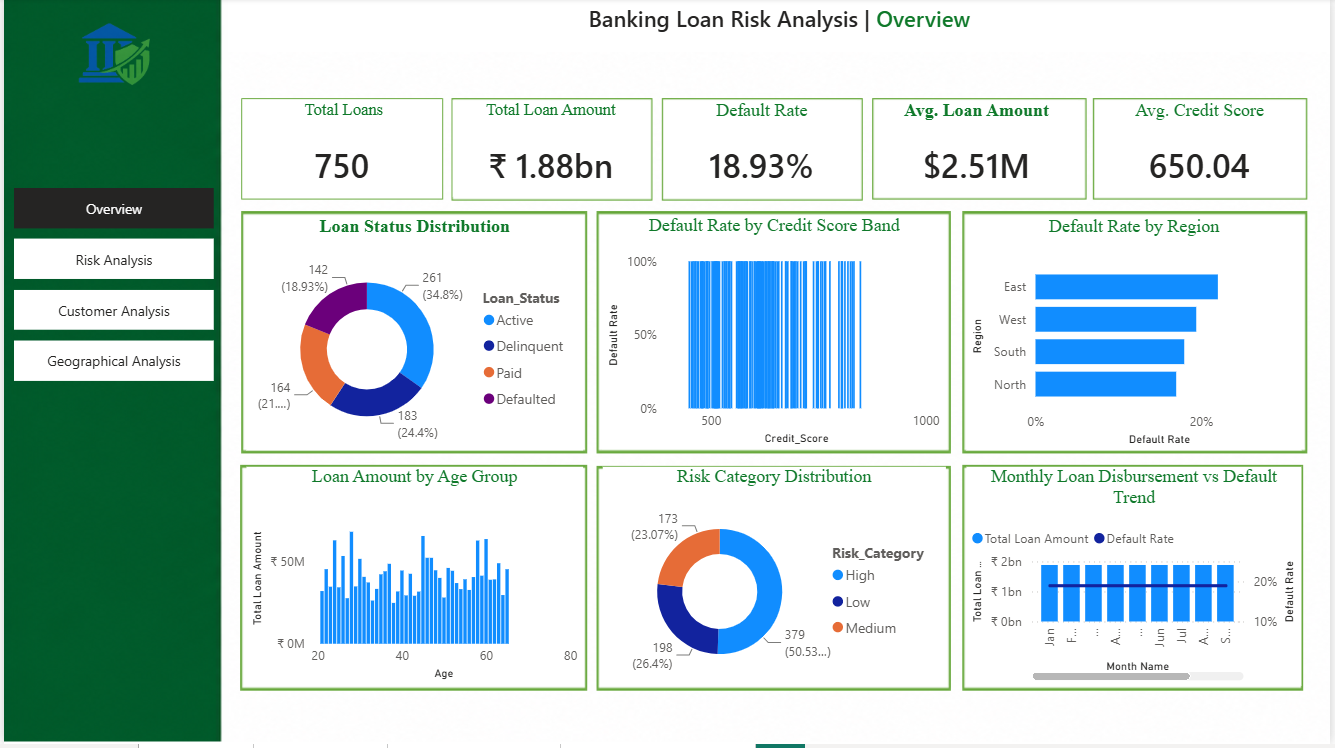

The dashboard page shown, as its layout file describes it:
{"tool":"powerbi","page":{"name":"Overview","canvas":[1280,720],"ordinal":0},"visuals":[{"type":"textbox","box":[215.4,0,1064.8,52.1],"z":0},{"type":"cardVisual","title":"Total Loans","fields":{"Data":["Banking_Loan.Total Loans"]},"box":[233.5,99,187.8,92.6],"z":1000},{"type":"cardVisual","title":"Total Loan Amount","fields":{"Data":["Banking_Loan.Total Loan Amount"]},"box":[432.7,99,189.1,92.6],"z":2000},{"type":"cardVisual","title":"Default Rate","fields":{"Data":["Banking_Loan.Default Rate"]},"box":[639.5,99,184,92.6],"z":3000},{"type":"cardVisual","title":"Avg. Loan Amount","fields":{"Data":["Banking_Loan.Average Loan Amount"]},"box":[841.2,99,195.4,92.6],"z":4000},{"type":"cardVisual","title":"Avg. Credit Score","fields":{"Data":["Banking_Loan.Average Credit Score"]},"box":[1055.7,99,196.7,92.6],"z":5000},{"type":"donutChart","title":"Loan Status Distribution","fields":{"Category":["Banking_Loan.Loan_Status"],"Y":["CountNonNull(Banking_Loan.Loan_ID)"]},"box":[233.5,210.6,324.8,225.9],"z":6000},{"type":"hundredPercentStackedColumnChart","title":"Default Rate by Credit Score Band","fields":{"Category":["Banking_Loan.Credit_Score"],"Y":["Banking_Loan.Default Rate"]},"box":[577.9,209.9,331.2,225.9],"z":7000},{"type":"barChart","title":"Default Rate by Region","fields":{"Category":["Banking_Loan.Region"],"Y":["Banking_Loan.Default Rate"]},"box":[928.8,210.6,323.6,225.9],"z":8000},{"type":"columnChart","title":"Loan Amount by Age Group","fields":{"Category":["Banking_Loan.Age"],"Y":["Banking_Loan.Total Loan Amount"]},"box":[233.5,453,324.8,210.6],"z":9000},{"type":"donutChart","title":"Risk Category Distribution","fields":{"Category":["Banking_Loan.Risk_Category"],"Y":["CountNonNull(Banking_Loan.Loan_ID)"]},"box":[577.3,453,331.2,210.6],"z":10000},{"type":"lineClusteredColumnComboChart","title":"Monthly Loan Disbursement vs Default Trend","fields":{"Category":["Date.Month Name"],"Y":["Banking_Loan.Total Loan Amount"],"Y2":["Banking_Loan.Default Rate"]},"box":[929,452.4,323.3,211.1],"z":11000},{"type":"pageNavigator","box":[9.7,183.4,193.5,188],"z":12000},{"type":"image","box":[9.7,0,191.8,113.4],"z":13000}]}

Visuals, with their boxes on the page's 1280x720 design canvas (x1, y1, x2, y2). These are canvas units, not pixel positions in the 1335x748 screenshot, which may show the page scaled, cropped or inside an application window:
textbox: [215,0,1280,52]
"Total Loans" cardVisual: [234,99,421,192]
"Total Loan Amount" cardVisual: [433,99,622,192]
"Default Rate" cardVisual: [640,99,824,192]
"Avg. Loan Amount" cardVisual: [841,99,1037,192]
"Avg. Credit Score" cardVisual: [1056,99,1252,192]
"Loan Status Distribution" donutChart: [234,211,558,436]
"Default Rate by Credit Score Band" hundredPercentStackedColumnChart: [578,210,909,436]
"Default Rate by Region" barChart: [929,211,1252,436]
"Loan Amount by Age Group" columnChart: [234,453,558,664]
"Risk Category Distribution" donutChart: [577,453,908,664]
"Monthly Loan Disbursement vs Default Trend" lineClusteredColumnComboChart: [929,452,1252,664]
pageNavigator: [10,183,203,371]
image: [10,0,202,113]
